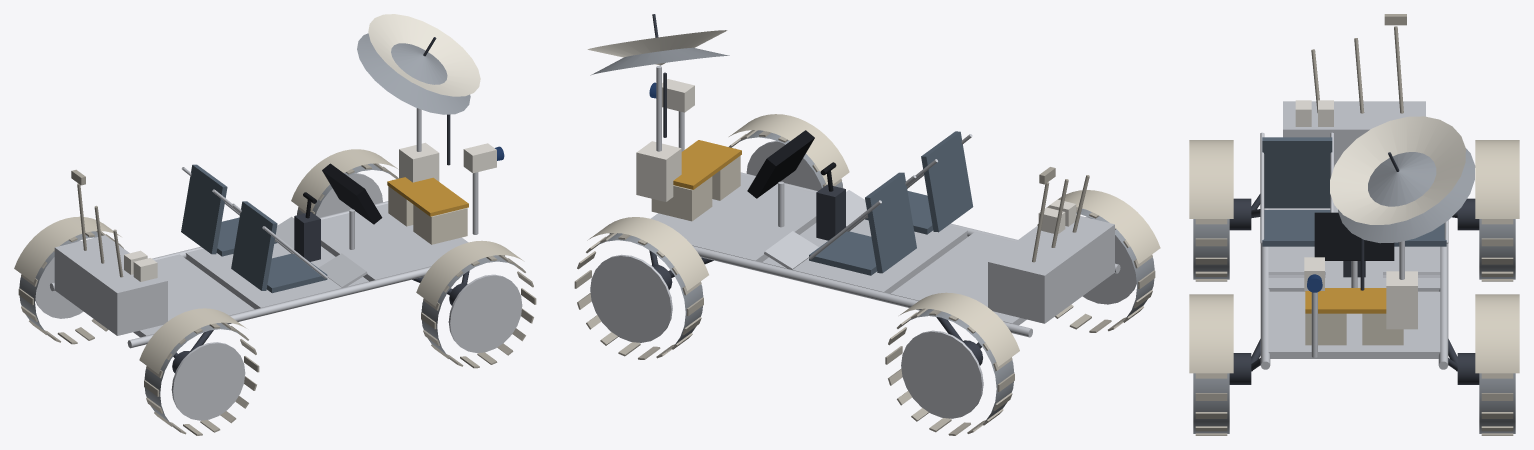
The model's file is lrv.glb.
The picture shows the model from 3 angles, left to right: view 1: azimuth 30°, elevation 25°; view 2: azimuth 150°, elevation 25°; view 3: azimuth 270°, elevation 25°; orthographic projection. The views are drawn at different scales.
Bounding box in the file's own units: 3.4 × 2.12 × 2.08.
